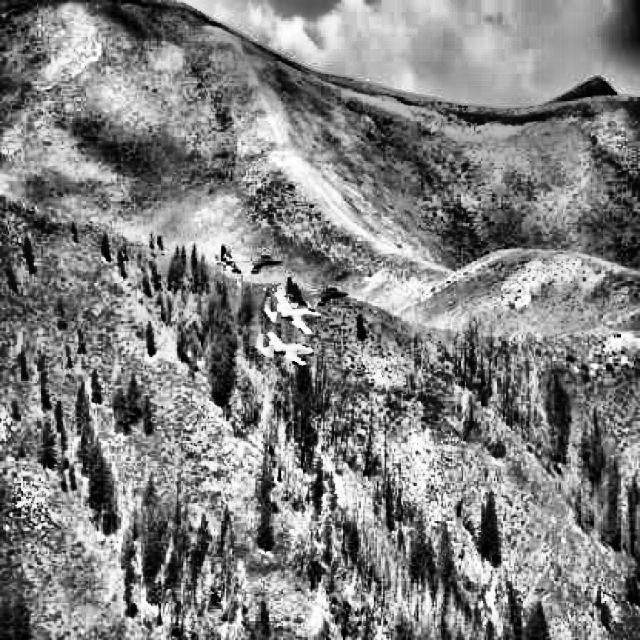A10: (263, 292, 322, 338), (256, 331, 315, 367)
F15: (280, 276, 349, 310), (212, 244, 282, 276)
